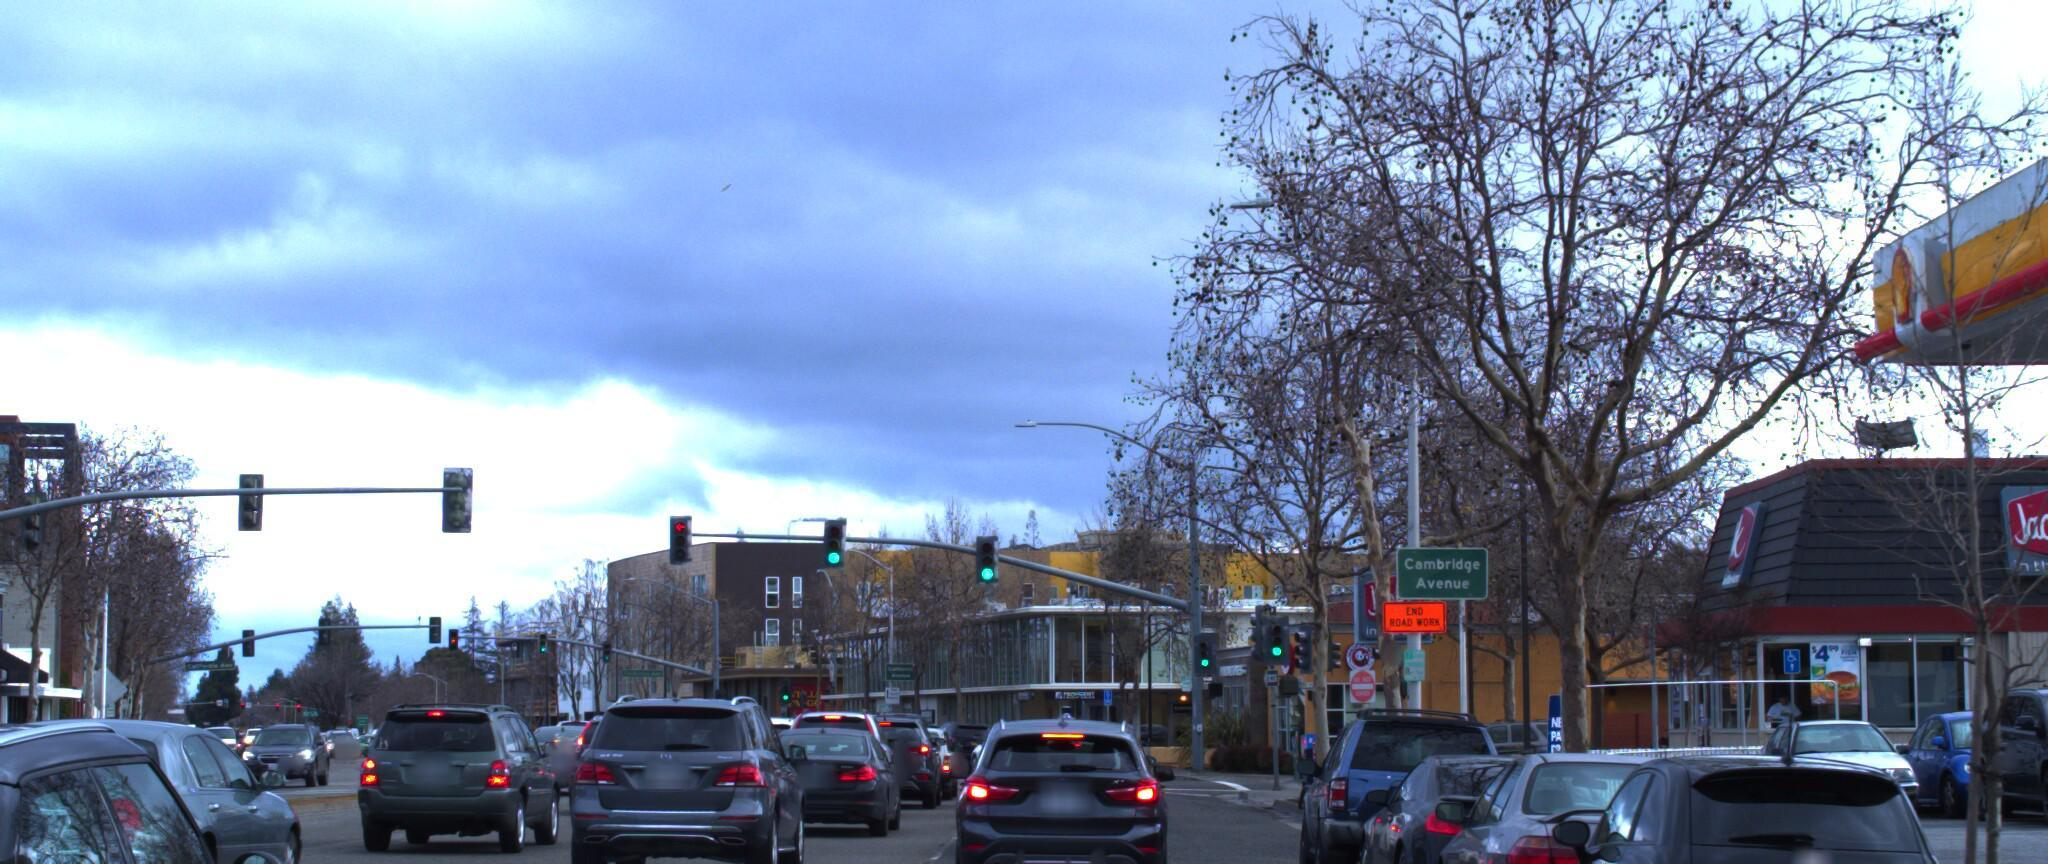car: (1509, 735, 2011, 864), (0, 698, 367, 864), (1394, 733, 1805, 864), (0, 724, 338, 864), (1335, 732, 1638, 864), (1277, 693, 1507, 864), (579, 693, 808, 864), (947, 720, 1173, 864), (354, 685, 556, 844), (1864, 693, 2048, 821), (1723, 706, 1923, 824), (764, 720, 910, 833), (1929, 673, 2048, 809), (772, 696, 895, 787), (848, 710, 946, 800)
